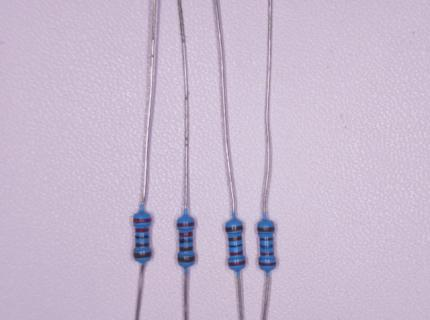Black band: (135, 235, 150, 240), (179, 239, 193, 244), (260, 244, 274, 249), (229, 244, 242, 248)
Brown band: (225, 225, 243, 232), (178, 256, 196, 263), (134, 252, 152, 259), (257, 227, 275, 232), (180, 246, 193, 252), (228, 237, 242, 242), (136, 243, 149, 247), (259, 238, 273, 241)
Red band: (228, 260, 246, 267), (176, 221, 195, 227), (133, 218, 152, 224), (259, 261, 276, 266), (179, 232, 193, 238), (229, 251, 244, 256), (135, 228, 149, 232), (260, 252, 274, 256)
